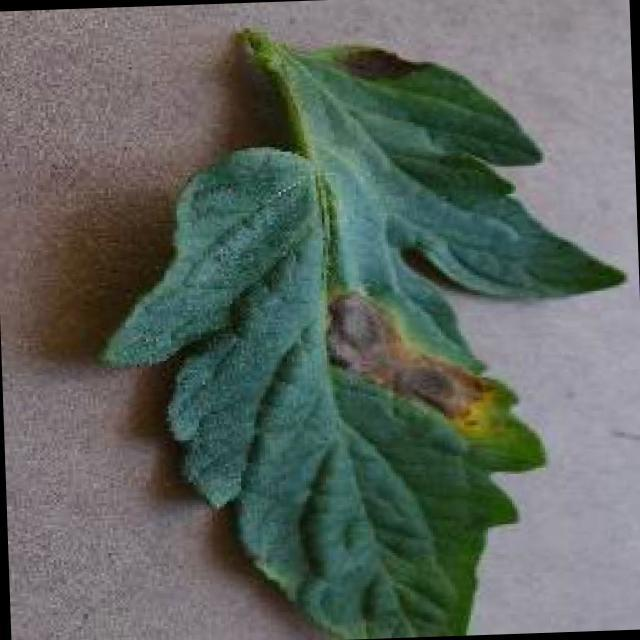Tomato Early blight leaf: (82, 34, 637, 640)
